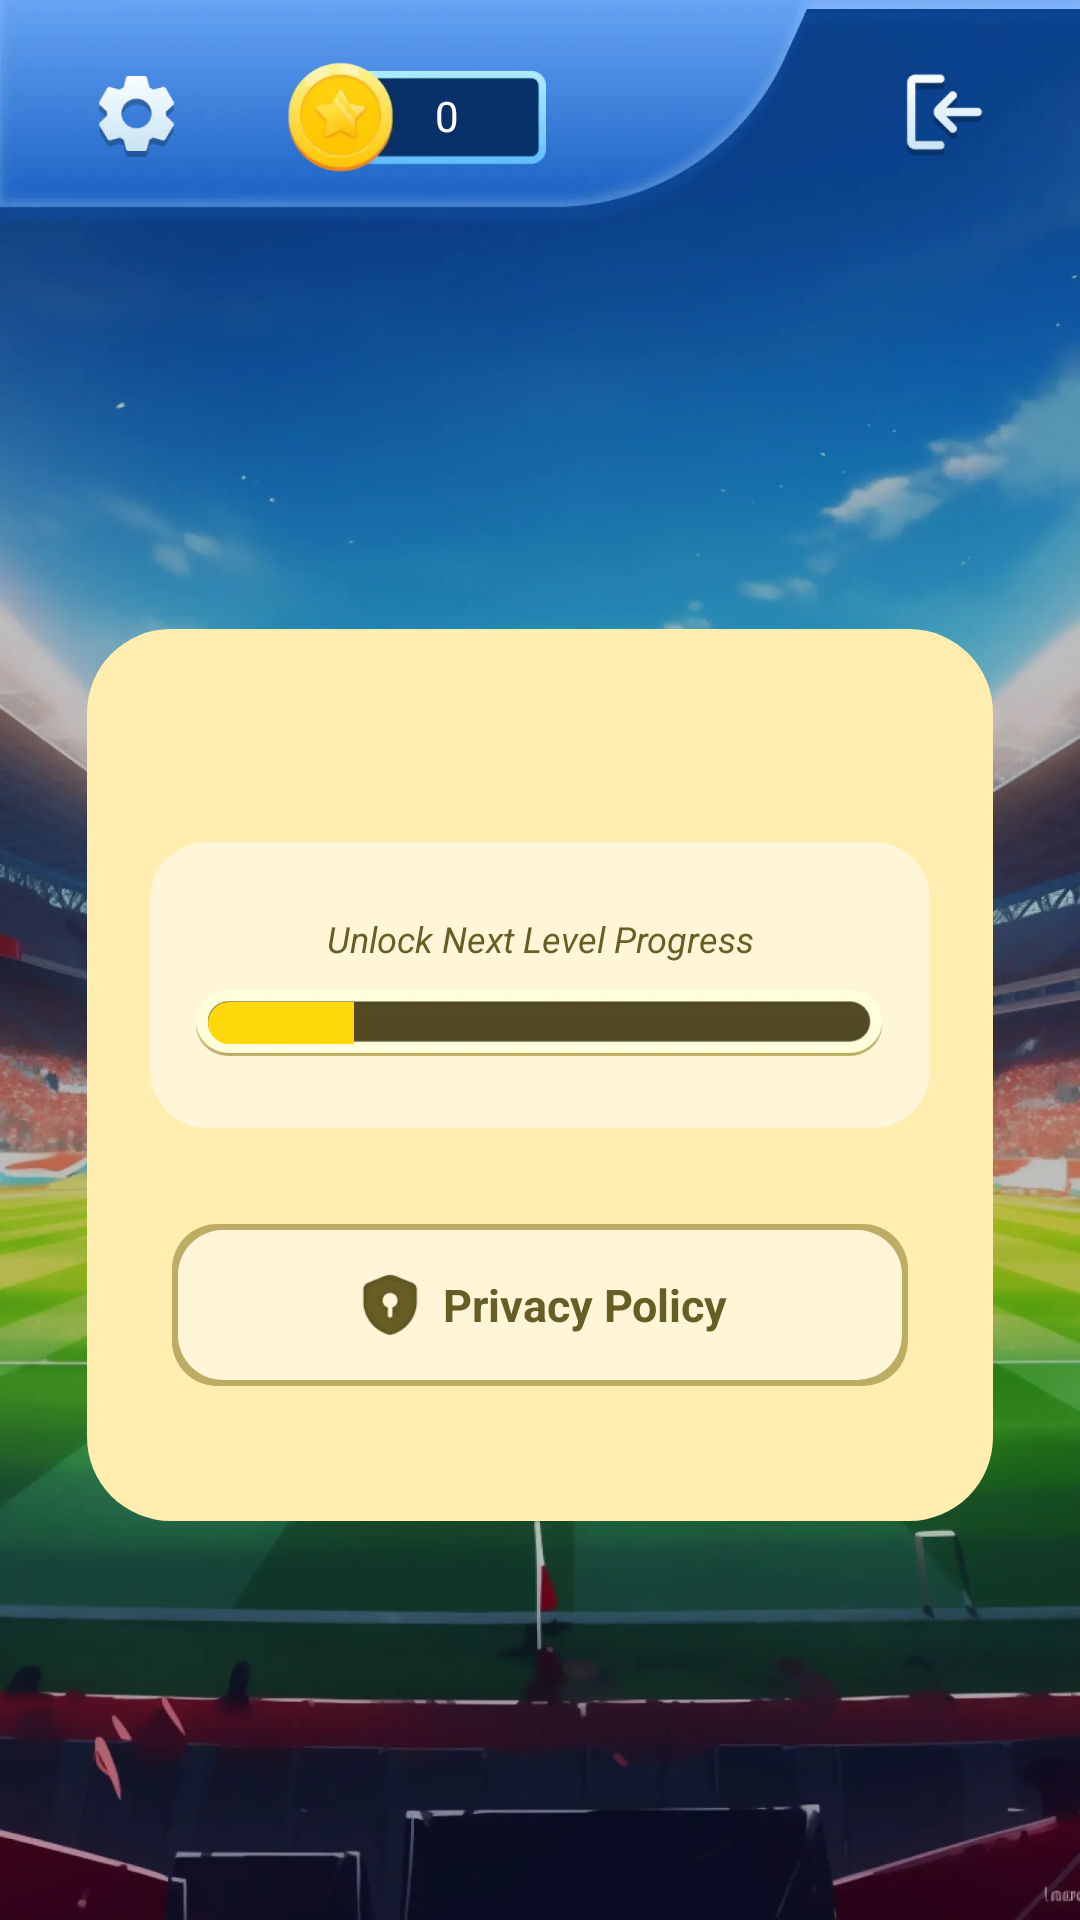

Icons on this 1080w x 1920h Android screen, each with the point to tap as point (x, y):
exit: point (945, 114)
setting: point (135, 115)
